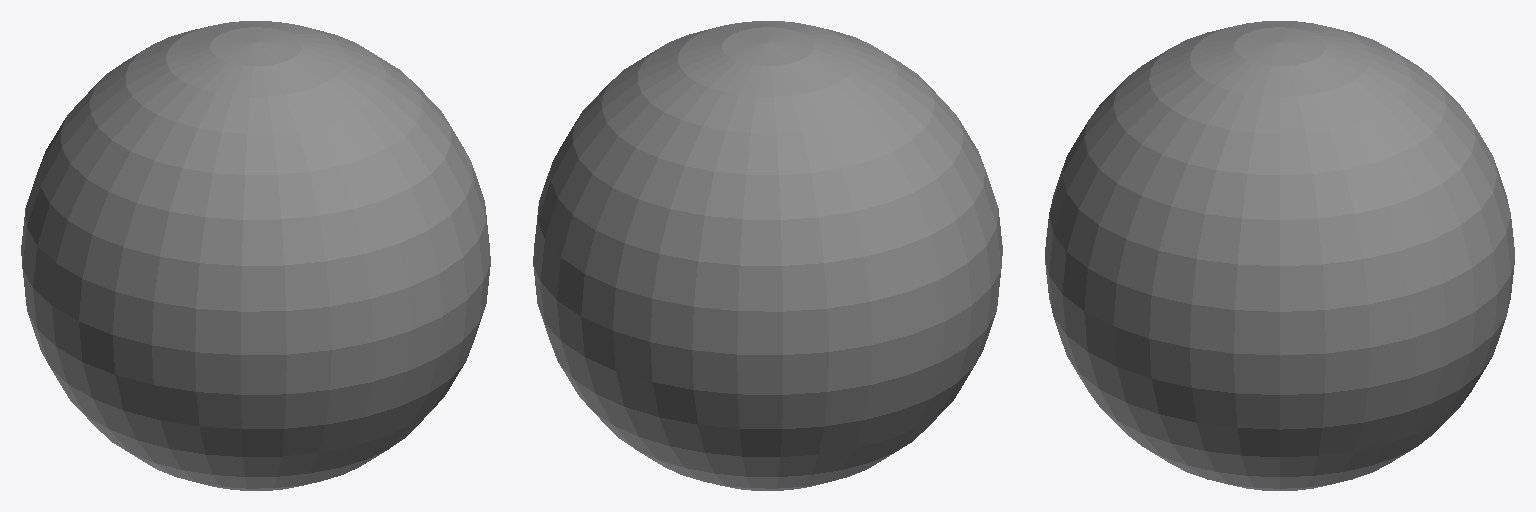
File: earth.obj
3 views of the same model, side by side, from view 1: azimuth 30°, elevation 25°; view 2: azimuth 150°, elevation 25°; view 3: azimuth 270°, elevation 25° (orthographic).
Parts seen in each view (by area): view 1: Sphere001; view 2: Sphere001; view 3: Sphere001.
Boxes of the visible parts, x1=… form: Sphere001: x1=21, y1=21, x2=490, y2=490; Sphere001: x1=533, y1=21, x2=1002, y2=490; Sphere001: x1=1045, y1=21, x2=1514, y2=490.
Bounding box in the file's own units: 120 × 120 × 120.